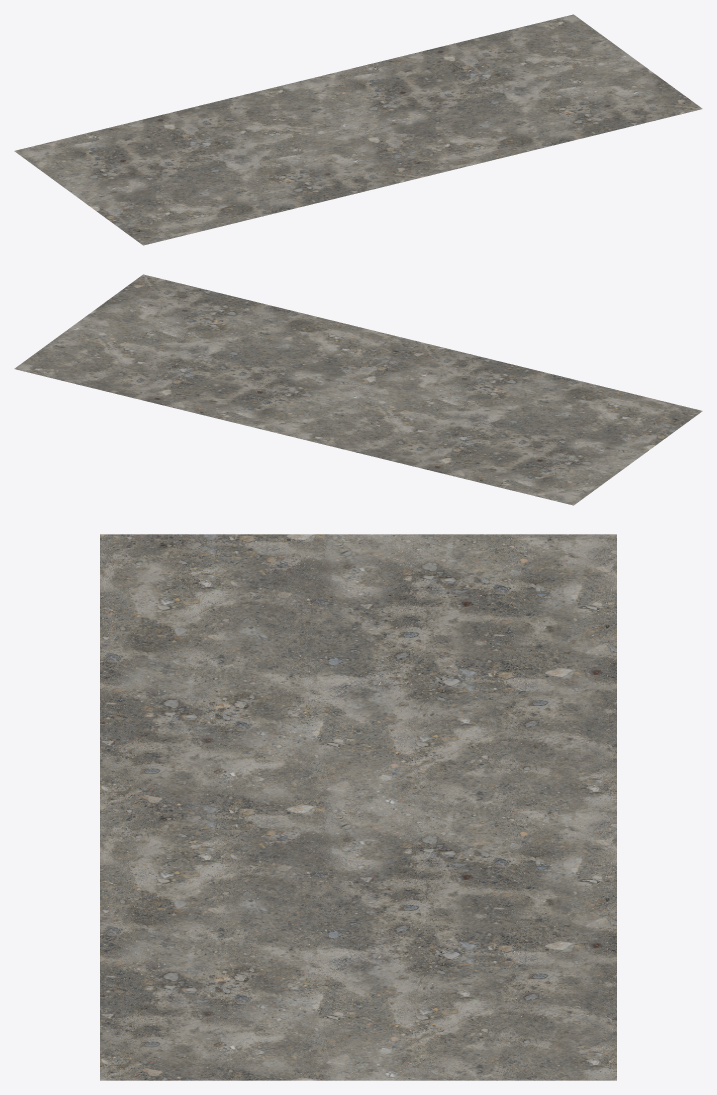
Rendered from SM_CryptFloor_01_02.fbx.
3 views of the same model, one above another, from view 1: azimuth 30°, elevation 25°; view 2: azimuth 150°, elevation 25°; view 3: azimuth 270°, elevation 25° (orthographic). The views are drawn at different scales.
Parts seen in each view (by area): view 1: sm_CryptFloor_01_02_LOD0; view 2: sm_CryptFloor_01_02_LOD0; view 3: sm_CryptFloor_01_02_LOD0.
Part boxes in pixels (x1,y1,x2,y2): sm_CryptFloor_01_02_LOD0: (14, 14, 702, 245); sm_CryptFloor_01_02_LOD0: (14, 274, 702, 505); sm_CryptFloor_01_02_LOD0: (100, 534, 616, 1080).
Bounding box in the file's own units: 300 × 750 × 3.58e-05.
